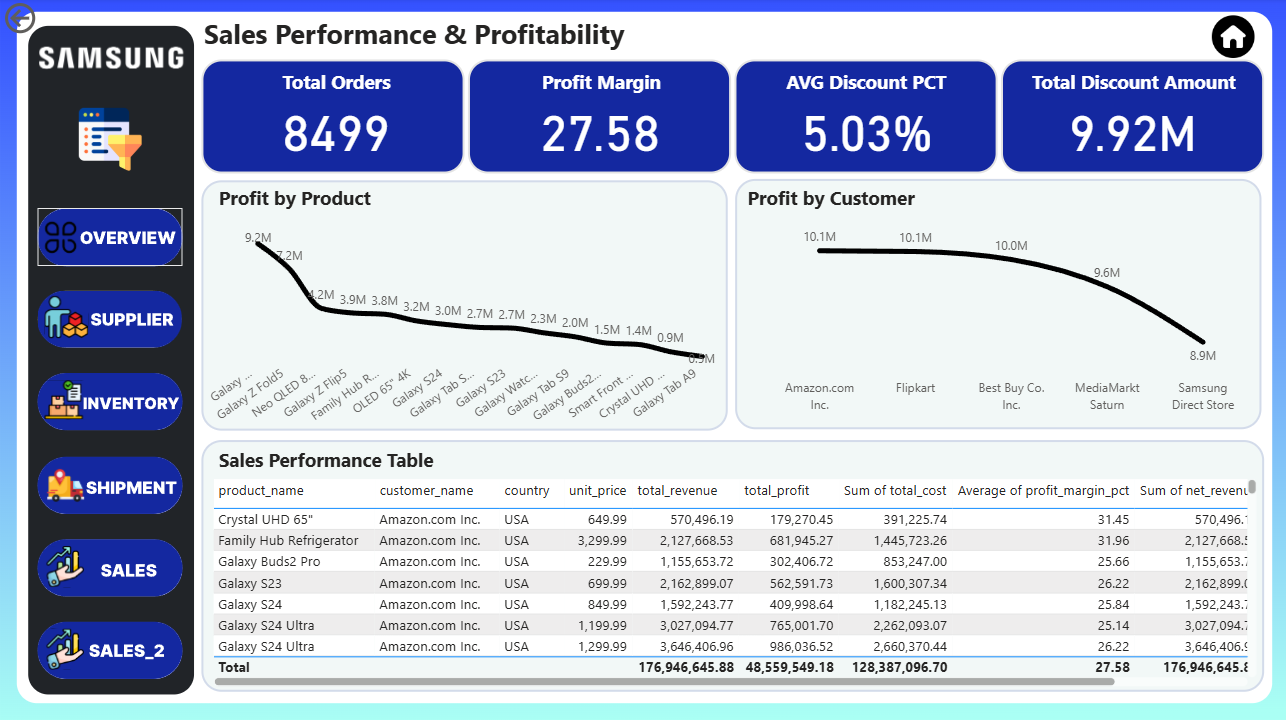

The page's visual inventory and layout, read from the dashboard file:
{"tool":"powerbi","page":{"name":"Sales & Customer 2","canvas":[1280,720],"ordinal":6},"visuals":[{"type":"card","fields":{"Values":["Avg(fact_sales.profit_margin_pct)"]},"box":[464.9,96.1,261,66.2],"z":0},{"type":"actionButton","box":[37.2,208.1,144.2,58.1],"z":0,"group":"g1"},{"type":"actionButton","box":[37.2,290.7,143,57],"z":0,"group":"g4"},{"type":"actionButton","box":[37.6,372.9,144,57],"z":0,"group":"g2"},{"type":"actionButton","box":[37.2,455.2,144.2,57.1],"z":0,"group":"g5"},{"type":"actionButton","box":[37.2,537.5,144.2,57.1],"z":0,"group":"g3"},{"type":"actionButton","box":[37.2,619.8,144.2,57.1],"z":0,"group":"g6"},{"type":"card","fields":{"Values":["Count(fact_sales.order_number)"]},"box":[203.9,96.1,261,66.2],"z":1000},{"type":"card","fields":{"Values":["fact_sales.avg_discount_pct"]},"box":[729.9,96.1,261,66.2],"z":2000},{"type":"lineChart","fields":{"Y":["fact_sales.total_profit"],"Category":["dim_customer.customer_name"]},"box":[736.4,206.5,507.8,213],"z":3000},{"type":"lineChart","fields":{"Y":["fact_sales.total_profit"],"Category":["dim_product.product_name"]},"box":[203.9,219.5,511.7,213],"z":4000},{"type":"tableEx","fields":{"Values":["dim_product.product_name","dim_customer.customer_name","dim_customer.country","fact_sales.unit_price","fact_sales.total_revenue","fact_sales.total_profit","Sum(fact_sales.total_cost)","Avg(fact_sales.profit_margin_pct)","Sum(fact_sales.net_revenue)","Sum(fact_sales.quantity_sold)"]},"box":[206.5,472.7,1046.8,215.6],"z":5000},{"type":"card","fields":{"Values":["Sum(fact_sales.discount_amount)"]},"box":[994.8,96.1,261,66.2],"z":6000},{"type":"textbox","box":[211.7,440.3,331.2,35.1],"z":7000},{"type":"textbox","box":[737.7,181.8,331.2,35.1],"z":8000},{"type":"textbox","box":[211.7,181.8,331.2,35.1],"z":9000},{"type":"textbox","box":[203.9,66.2,261,39],"z":10000},{"type":"textbox","box":[466.2,66.2,261,39],"z":11000},{"type":"textbox","box":[729.9,66.2,261,39],"z":12000},{"type":"textbox","box":[996.1,66.2,261,39],"z":13000},{"type":"group","id":"g1","title":"overview_button","box":[37.2,208.1,144.2,58.1],"z":14000},{"type":"group","id":"g2","title":"overview_button","box":[37.6,372.9,144,57],"z":15000},{"type":"group","id":"g3","title":"overview_button","box":[37.2,537.5,144.2,57],"z":16000},{"type":"group","id":"g4","title":"overview_button","box":[37.2,290.7,143,57],"z":17000},{"type":"group","id":"g5","title":"overview_button","box":[37.2,455.2,144.2,57],"z":18000},{"type":"group","id":"g6","title":"overview_button","box":[37.2,619.8,144.2,57],"z":19000},{"type":"image","box":[56.4,104.5,106.9,72],"z":20000},{"type":"actionButton","box":[0,0,100,40],"z":26000},{"type":"textbox","box":[197.6,12.3,520.3,46.9],"z":28002},{"type":"image","box":[1184.7,12.3,80.4,52.5],"z":28003}]}

Visuals, with their boxes on the page's 1280x720 design canvas (x1, y1, x2, y2). These are canvas units, not pixel positions in the 1286x720 screenshot, which may show the page scaled, cropped or inside an application window:
card - Avg(fact_sales.profit_margin_pct): <box>465,96,726,162</box>
actionButton: <box>37,208,181,266</box>
actionButton: <box>37,291,180,348</box>
actionButton: <box>38,373,182,430</box>
actionButton: <box>37,455,181,512</box>
actionButton: <box>37,538,181,595</box>
actionButton: <box>37,620,181,677</box>
card - Count(fact_sales.order_number): <box>204,96,465,162</box>
card - fact_sales.avg_discount_pct: <box>730,96,991,162</box>
lineChart - fact_sales.total_profit x dim_customer.customer_name: <box>736,206,1244,420</box>
lineChart - fact_sales.total_profit x dim_product.product_name: <box>204,220,716,432</box>
tableEx - dim_product.product_name x dim_customer.customer_name: <box>206,473,1253,688</box>
card - Sum(fact_sales.discount_amount): <box>995,96,1256,162</box>
textbox: <box>212,440,543,475</box>
textbox: <box>738,182,1069,217</box>
textbox: <box>212,182,543,217</box>
textbox: <box>204,66,465,105</box>
textbox: <box>466,66,727,105</box>
textbox: <box>730,66,991,105</box>
textbox: <box>996,66,1257,105</box>
"overview_button" group: <box>37,208,181,266</box>
"overview_button" group: <box>38,373,182,430</box>
"overview_button" group: <box>37,538,181,594</box>
"overview_button" group: <box>37,291,180,348</box>
"overview_button" group: <box>37,455,181,512</box>
"overview_button" group: <box>37,620,181,677</box>
image: <box>56,104,163,176</box>
actionButton: <box>0,0,100,40</box>
textbox: <box>198,12,718,59</box>
image: <box>1185,12,1265,65</box>
